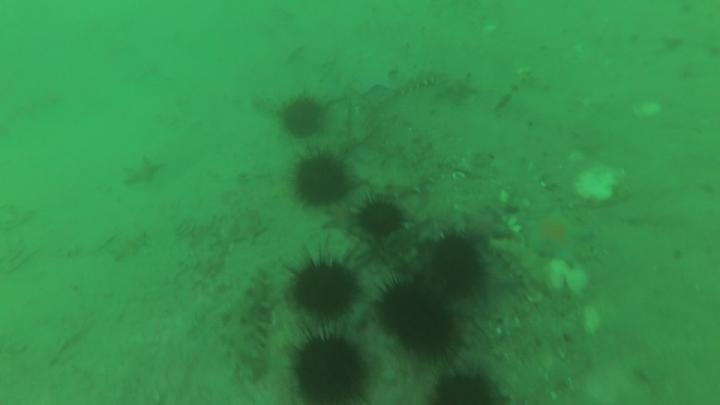echinus: (379, 282, 452, 362), (296, 335, 363, 402), (292, 263, 358, 319), (433, 238, 483, 297), (297, 155, 347, 207), (433, 373, 490, 405), (283, 98, 324, 138), (359, 203, 403, 235)
holothurian: (223, 267, 272, 381), (388, 67, 445, 98)
starfish: (522, 208, 597, 262), (464, 208, 506, 241), (125, 157, 159, 189)
